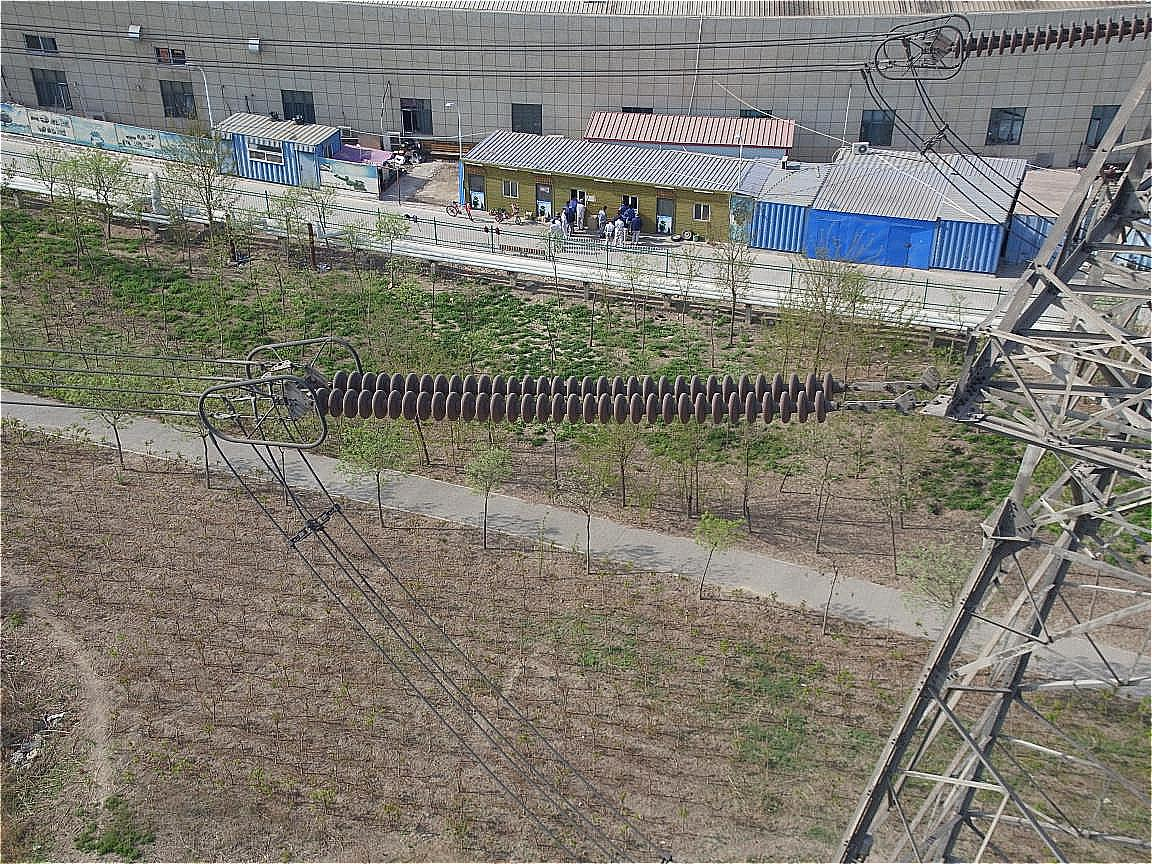insultor1: (303, 333, 848, 448)
